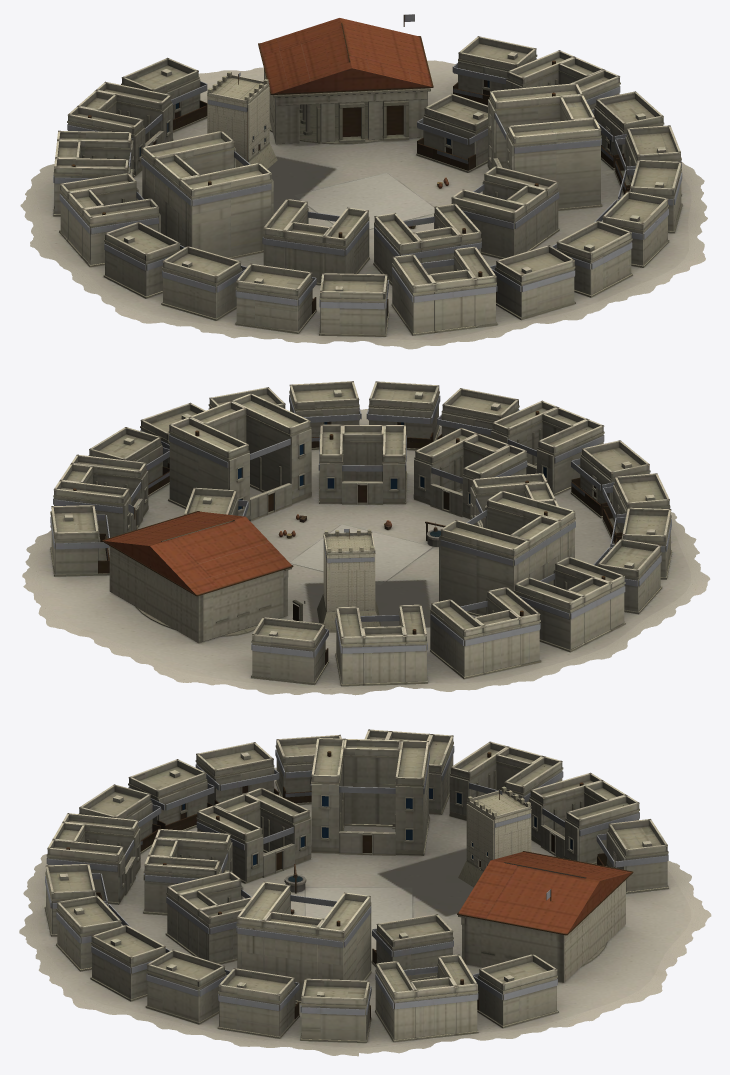
The model's file is classical-town-big-b-israelite-1965e443.glb.
The picture shows the model from 3 angles, top to bottom: view 1: azimuth 30°, elevation 25°; view 2: azimuth 150°, elevation 25°; view 3: azimuth 270°, elevation 25°; orthographic projection.
Visible parts, largest first — view 1: LOD0; view 2: LOD0; view 3: LOD0.
Part boxes in pixels (box(x1,y1,x2,y2)): LOD0: box(20, 14, 707, 349); LOD0: box(22, 381, 710, 695); LOD0: box(19, 729, 711, 1056).
Size of what is drawn, in the model's own units: 7.94 by 1.18 by 7.92.
3 materials, 3 textured.
